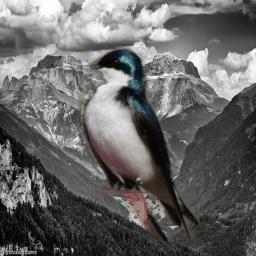Swallow: (77, 46, 200, 245)
